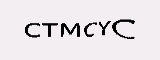Б: (59, 21, 68, 41)
Н: (100, 15, 118, 39)
С: (84, 18, 100, 38)
Э: (44, 20, 57, 40), (71, 18, 80, 38)
